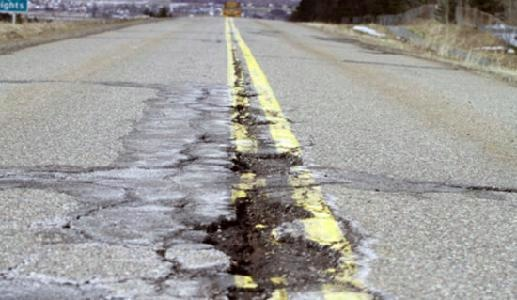pothole: (199, 195, 334, 299), (227, 149, 305, 175)
